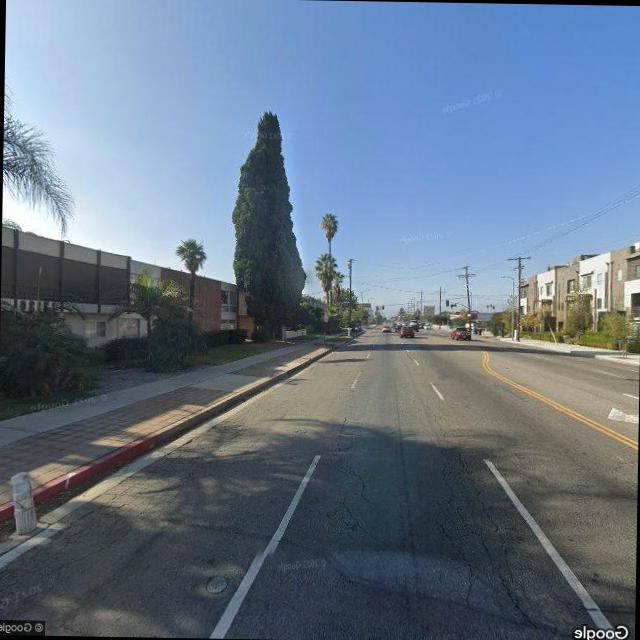crack: (5, 420, 237, 606), (425, 443, 542, 624)
